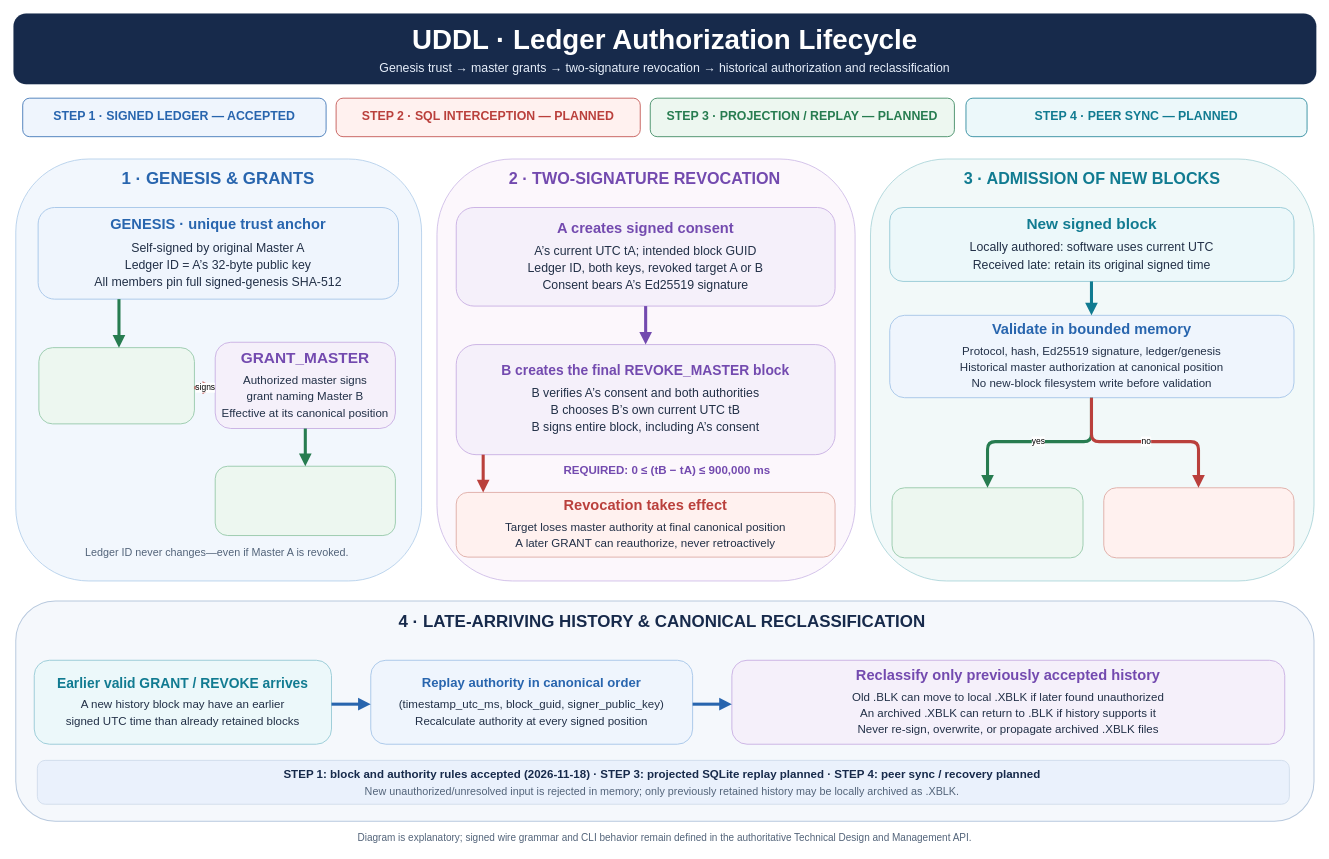
Image size: 1329x859. Some labels were removed from this diagram. The box of each missing label's shape, as (x1, y1, x2, y2) in pixels:
AUTHORIZED → .BLK Durably retain exact original signed bytes: (891, 487, 1083, 558)
Master A Initially authorized by valid genesis: (38, 347, 195, 424)
Master B Authorized from the grant’s canonical position: (214, 465, 396, 536)
NOT PROVEN → REJECT Unresolved or false authority: no .BLK or .XBLK saved: (1103, 487, 1294, 558)
